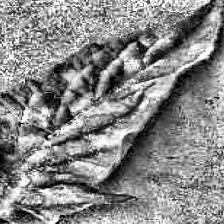leaf mold: (0, 0, 223, 206)
